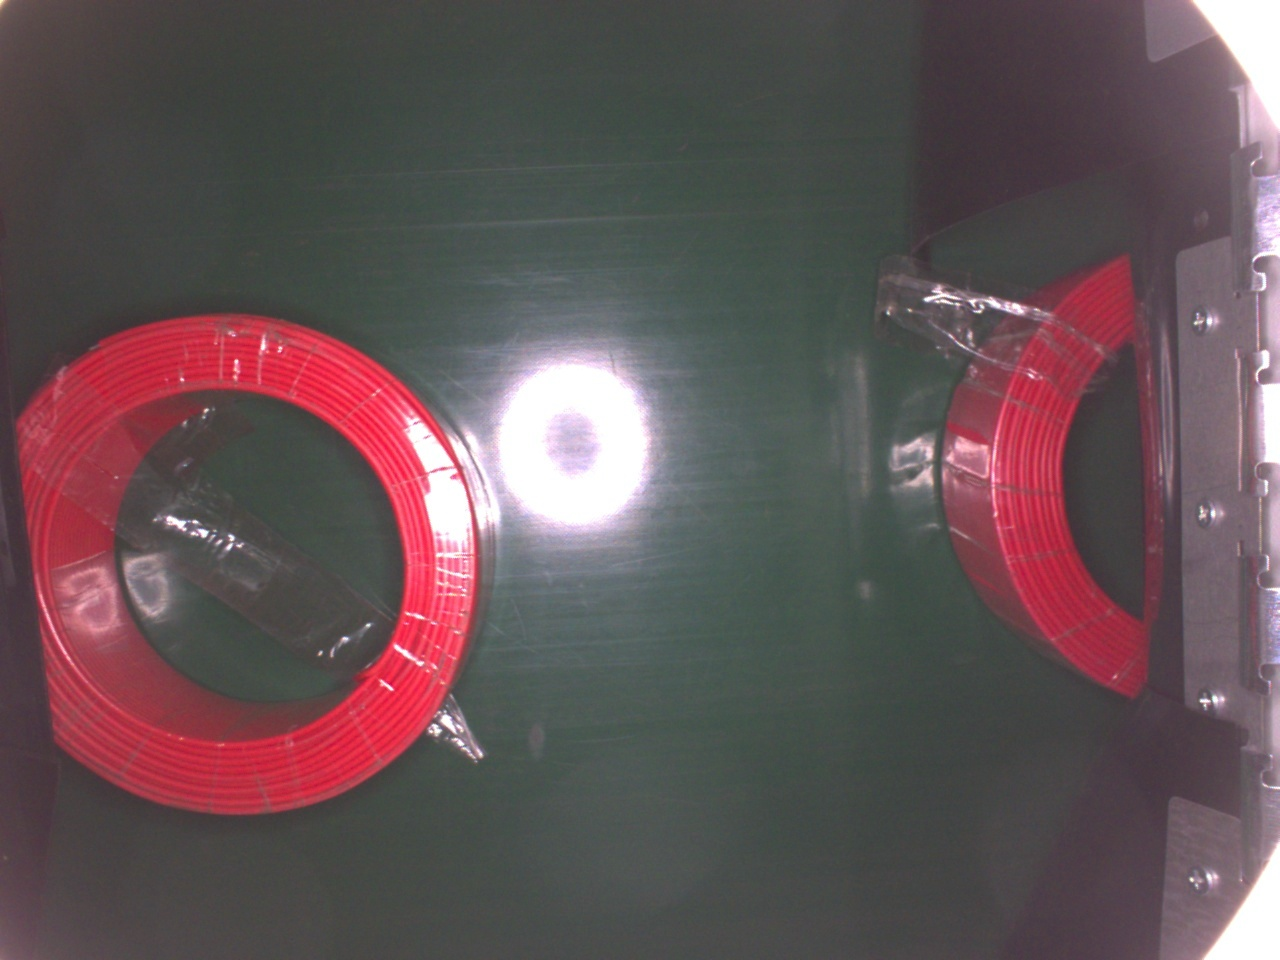red: (19, 310, 493, 818), (941, 242, 1164, 702)
